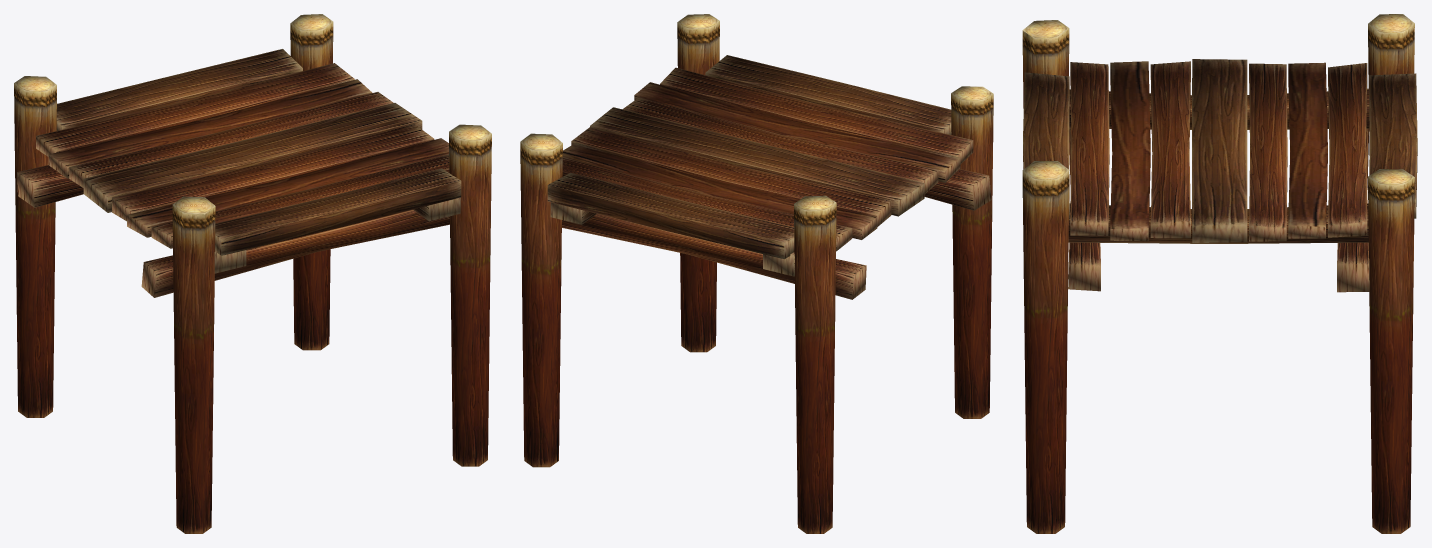
The model's file is redridgedocks02_set0.obj.
3 views of the same model, side by side, from view 1: azimuth 30°, elevation 25°; view 2: azimuth 150°, elevation 25°; view 3: azimuth 270°, elevation 25° (orthographic). The views are drawn at different scales.
Parts seen in each view (by area): view 1: RedRidgeDocks022, RedRidgeDocks020, RedRidgeDocks021, RedRidgeDocks023; view 2: RedRidgeDocks022, RedRidgeDocks020, RedRidgeDocks021, RedRidgeDocks023; view 3: RedRidgeDocks020, RedRidgeDocks022, RedRidgeDocks021, RedRidgeDocks023.
Part boxes in pixels (x1,y1,x2,y2): RedRidgeDocks022: (14,22,491,533); RedRidgeDocks020: (17,63,449,297); RedRidgeDocks021: (56,49,461,273); RedRidgeDocks023: (14,14,491,214); RedRidgeDocks022: (520,21,993,533); RedRidgeDocks020: (562,67,991,299); RedRidgeDocks021: (547,55,951,276); RedRidgeDocks023: (520,14,993,210); RedRidgeDocks020: (1068,61,1369,292); RedRidgeDocks022: (1022,23,1414,533); RedRidgeDocks021: (1023,59,1417,243); RedRidgeDocks023: (1022,14,1414,184).
Size of the model in its own units: 20.47 by 19.19 by 19.21.
Materials: 4 (4 with a texture image).
